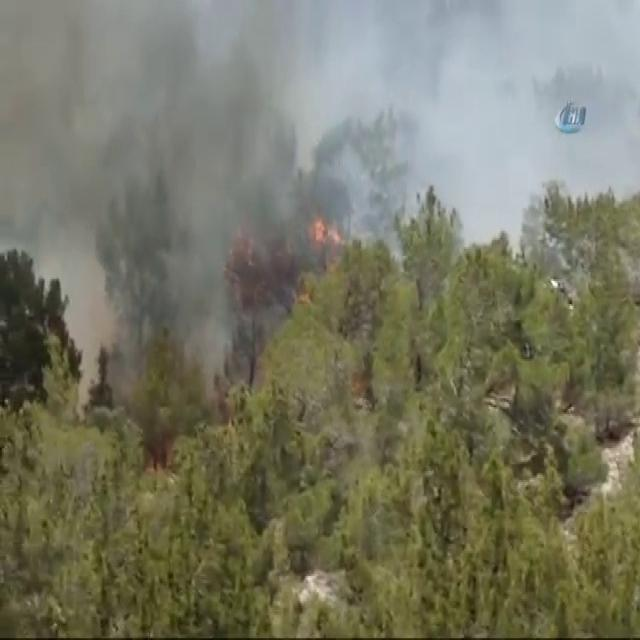Fire: (307, 180, 353, 260)
Smoke: (35, 52, 231, 256)
